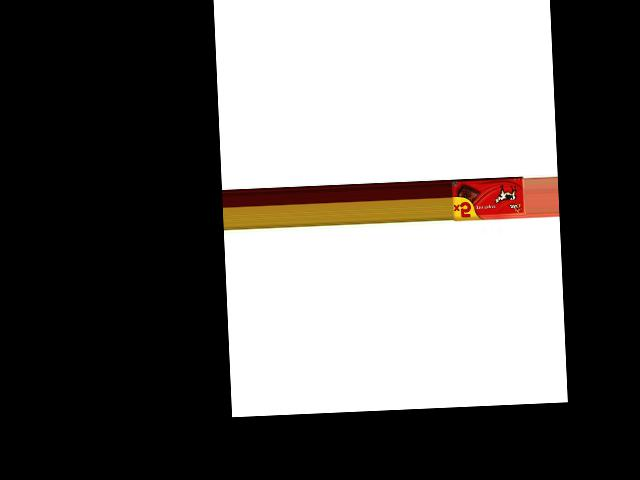chocolate: (451, 176, 526, 222)
